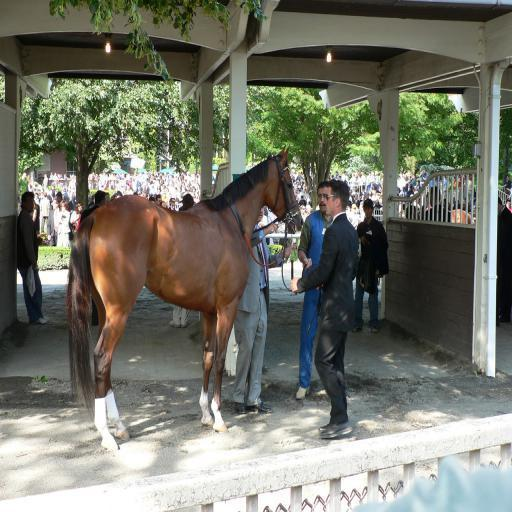horse: (65, 142, 307, 450)
